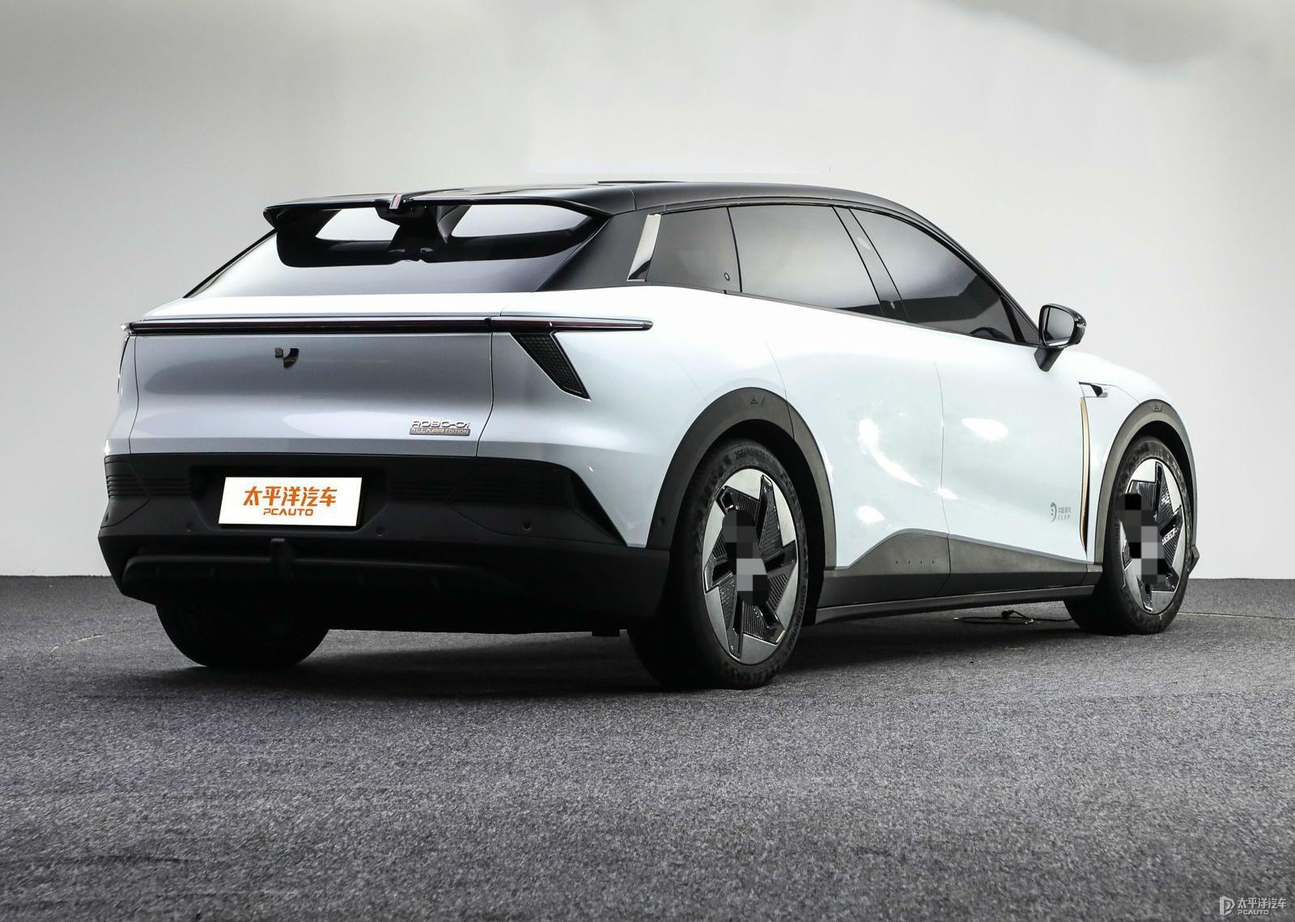JIYUE: (274, 346, 300, 368)
